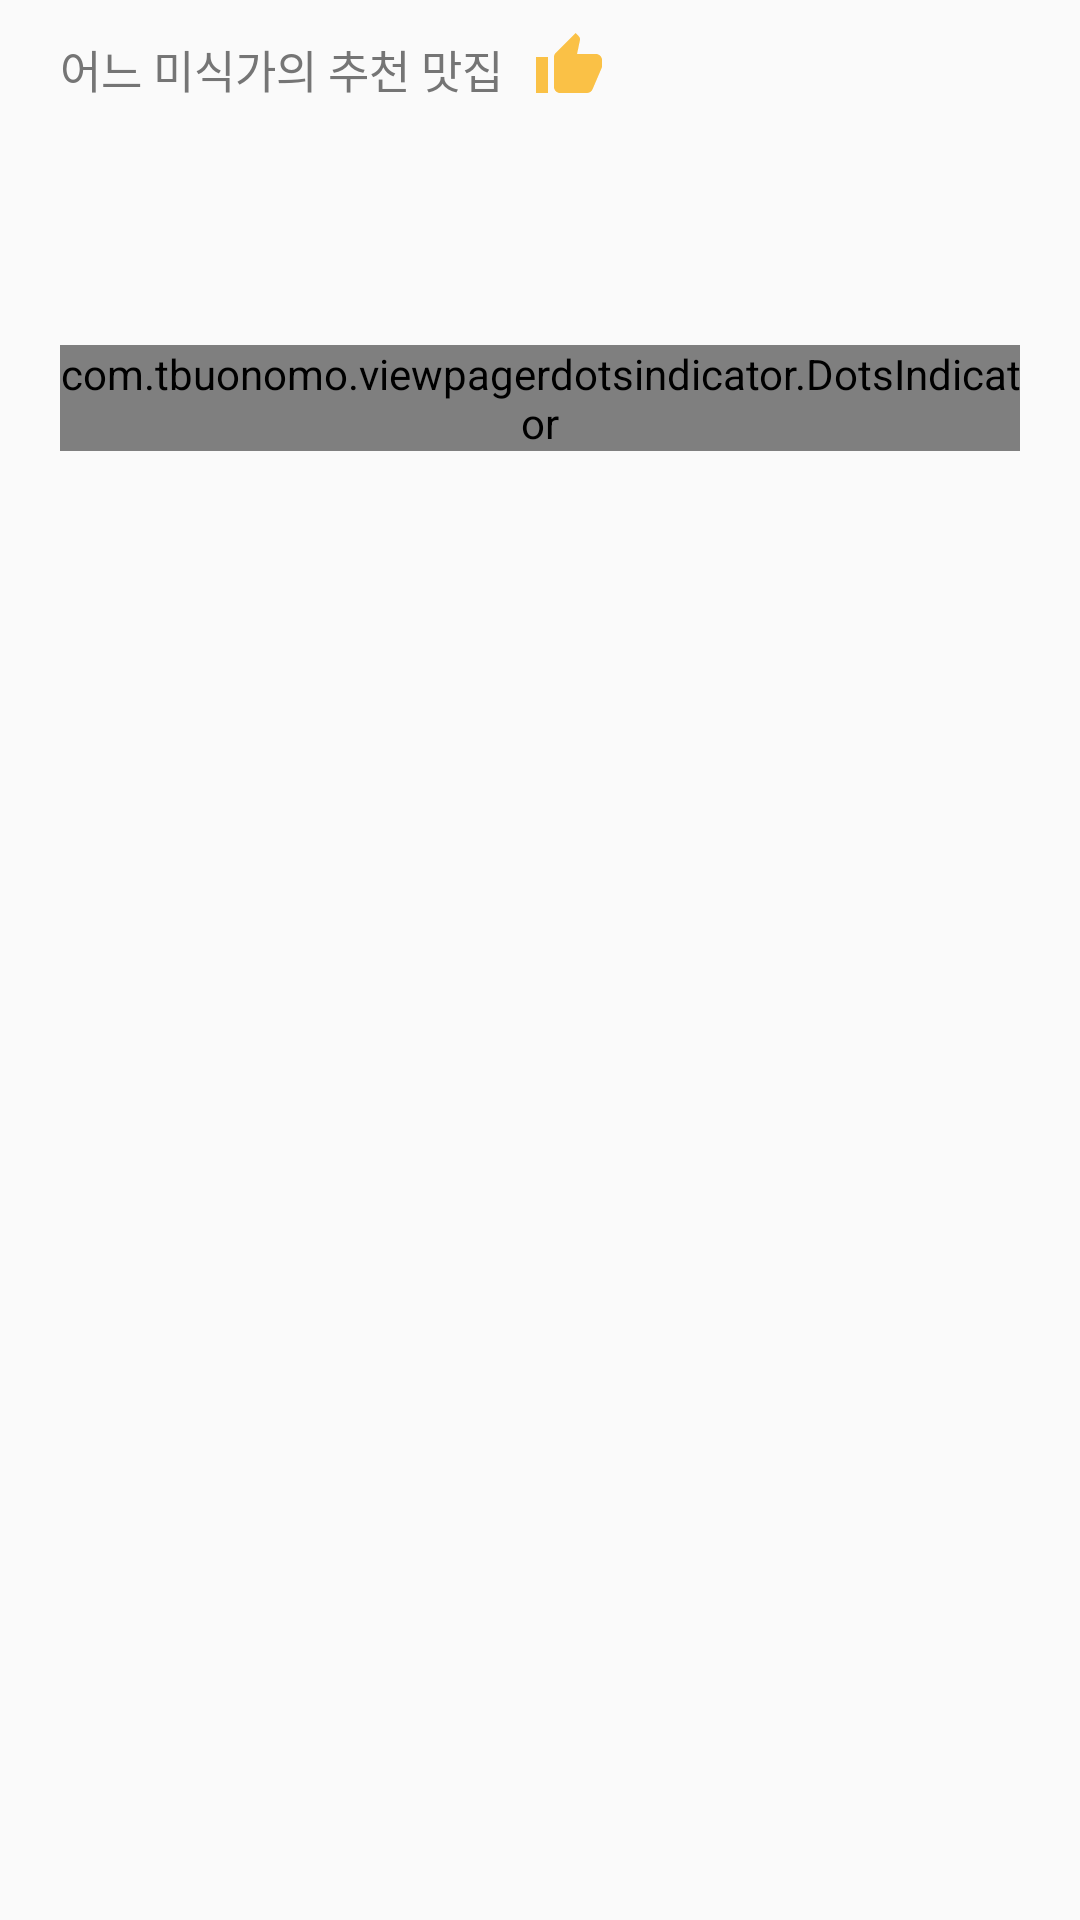

Where icons sit on this 1080*1920 app screen, as BBox(x1, y1, x2, y2):
recommend: BBox(536, 33, 602, 93)
